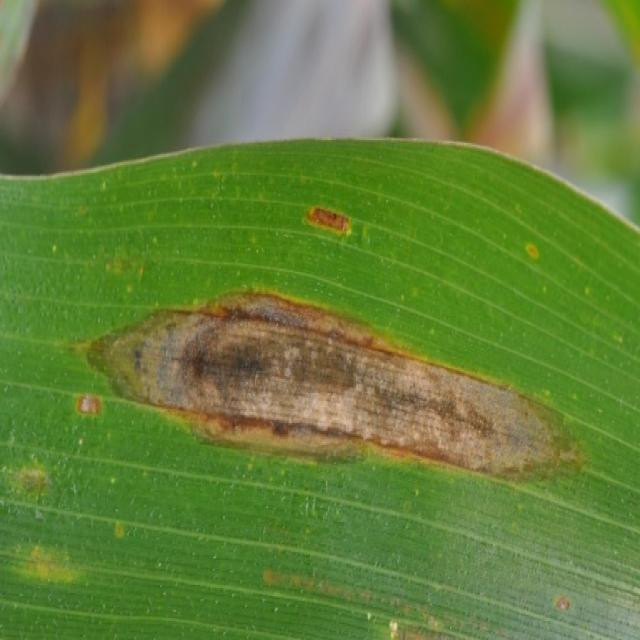Corn_Leaf_Blight: (13, 126, 640, 640)
